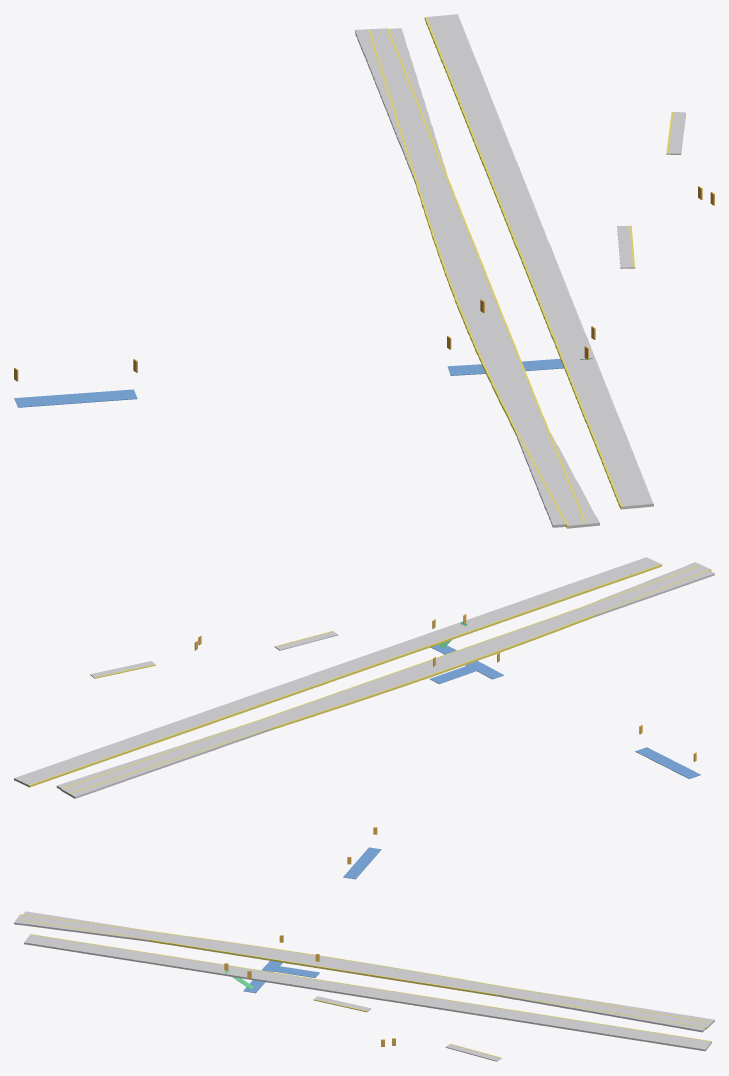
Rendered from 8504104-thoerishaus-station.glb.
The picture shows the model from 3 angles, top to bottom: view 1: azimuth 30°, elevation 25°; view 2: azimuth 150°, elevation 25°; view 3: azimuth 270°, elevation 25°; orthographic projection. The views are drawn at different scales.
Parts seen in each view (by area): view 1: platform_body@0, boarding_edge@0, passage@-1; view 2: platform_body@0, boarding_edge@0, passage@-1; view 3: platform_body@0, boarding_edge@0, passage@-1.
Boxes of the visible parts, x1,y1,x2,y2 form: platform_body@0: (355,14,685,528); boarding_edge@0: (368,17,673,528); passage@-1: (14,358,563,407); platform_body@0: (14,557,714,798); boarding_edge@0: (28,564,711,793); passage@-1: (430,645,700,778); platform_body@0: (14,911,714,1061); boarding_edge@0: (19,914,711,1058); passage@-1: (243,847,381,993).
Bounding box in the file's own units: 163 × 6.92 × 207.
